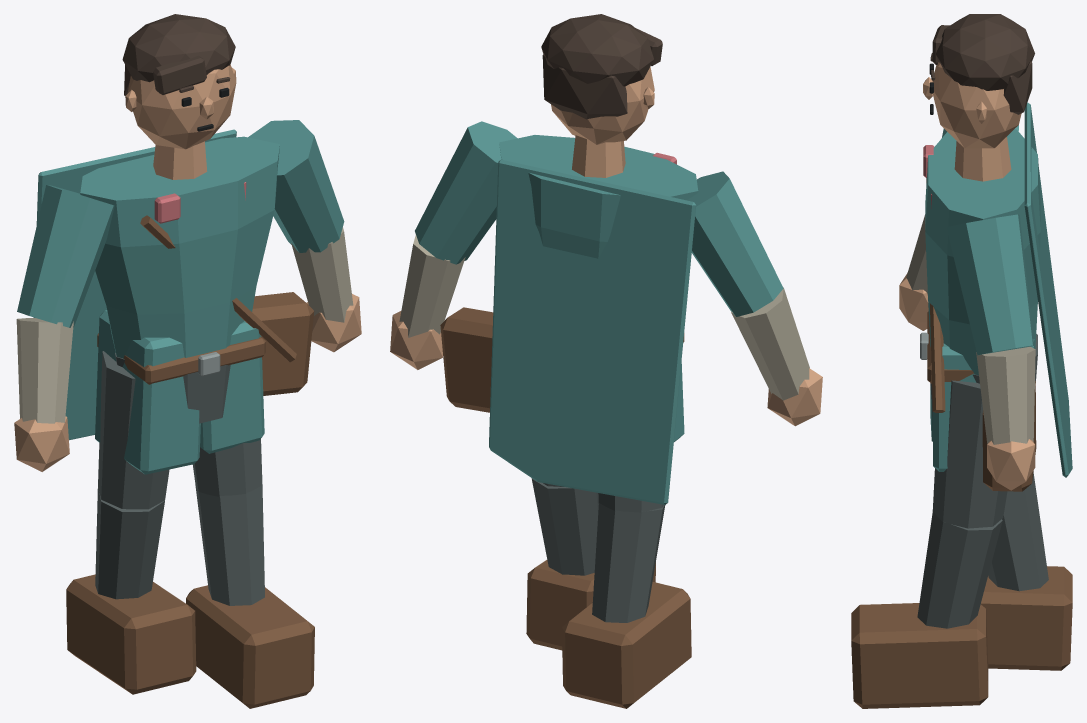
File: npc_wayfarer_step_r_v01.glb
3 renders of one model, left to right at view 1: azimuth 30°, elevation 25°; view 2: azimuth 150°, elevation 25°; view 3: azimuth 270°, elevation 25°, orthographic.
Visible parts, largest first — view 1: GEO_npc_wayfarer_step_r_v01; view 2: GEO_npc_wayfarer_step_r_v01; view 3: GEO_npc_wayfarer_step_r_v01.
Boxes of the visible parts, x1,y1,x2,y2 form: GEO_npc_wayfarer_step_r_v01: [14, 14, 361, 708]; GEO_npc_wayfarer_step_r_v01: [390, 14, 822, 708]; GEO_npc_wayfarer_step_r_v01: [851, 14, 1072, 708].
Bounding box in the file's own units: 1.29 × 2.06 × 0.6306.
